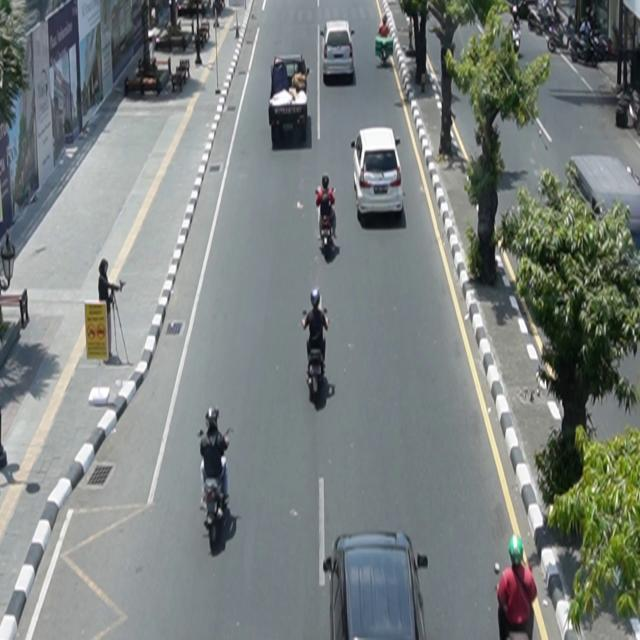car: (324, 531, 429, 640), (352, 127, 404, 220), (269, 55, 311, 145), (322, 20, 356, 80)
